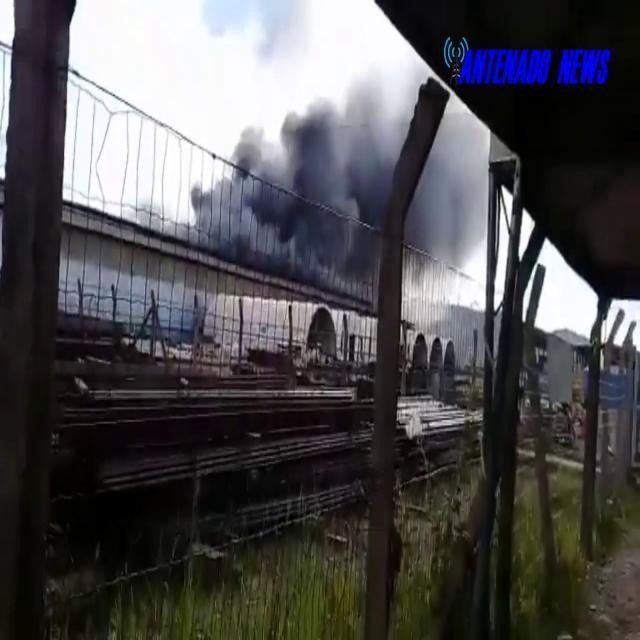Smoke: (202, 78, 467, 290)
